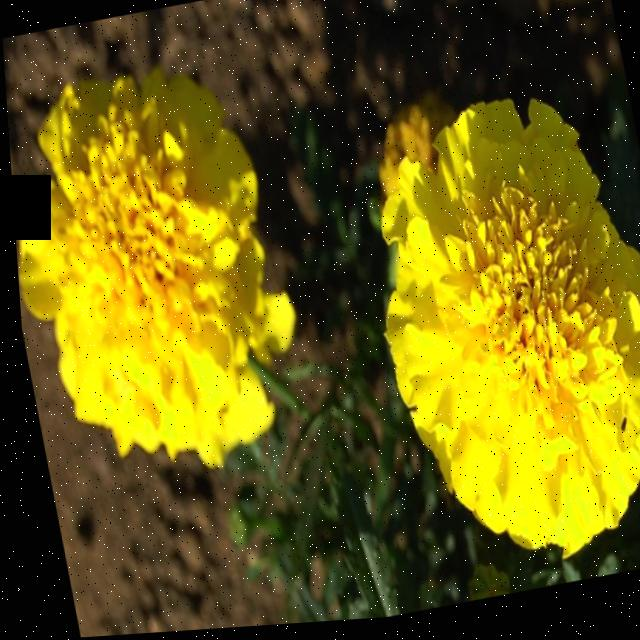marigold: (267, 13, 640, 625), (3, 45, 340, 564)
